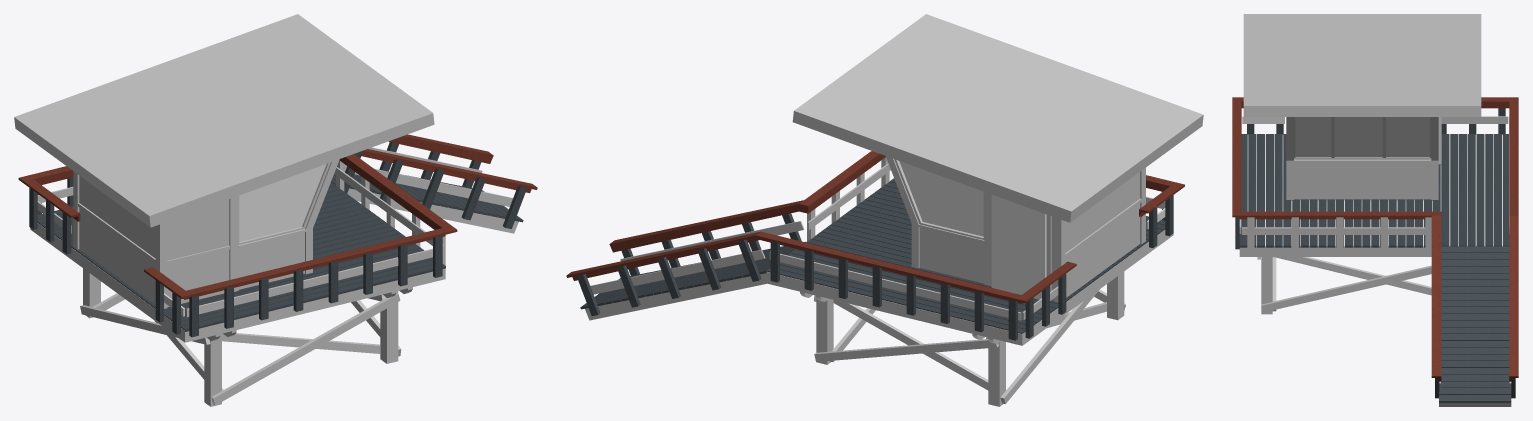
The model's file is LifeGaurd tower.fbx.
3 views of the same model, side by side, from view 1: azimuth 30°, elevation 25°; view 2: azimuth 150°, elevation 25°; view 3: azimuth 270°, elevation 25° (orthographic). The views are drawn at different scales.
Parts seen in each view (by area): view 1: Cube.028, Cube.031, Cube.026, Cube.015, Cube.017, Cube.032, Plane.002, Cube.029, Cube.011, Plane.005, Cube.019, Cube.027 (+14 smaller); view 2: Cube.028, Cube.031, Cube.026, Cube.015, Cube.033, Cube.032, Cube.018, Plane.001, Cube.029, Cube.025, Plane.007, Cube.027 (+16 smaller); view 3: Cube.028, Cube.026, Cube.025, Cube.031, Cube.032, Cube.017, Cube.030, Cube.018, Cube.015, Cube.029, Cube.005, Plane.003 (+8 smaller).
Boxes of the visible parts, left/top/right/bottom form: Cube.028: left=14, top=14, right=434, bottom=227; Cube.031: left=73, top=159, right=339, bottom=308; Cube.026: left=37, top=182, right=445, bottom=331; Cube.015: left=30, top=188, right=518, bottom=342; Cube.017: left=144, top=149, right=537, bottom=298; Cube.032: left=239, top=164, right=326, bottom=241; Plane.002: left=189, top=235, right=442, bottom=337; Cube.029: left=152, top=149, right=532, bottom=299; Cube.011: left=211, top=293, right=400, bottom=405; Plane.005: left=344, top=152, right=526, bottom=228; Cube.019: left=186, top=246, right=443, bottom=317; Cube.027: left=31, top=136, right=493, bottom=221; Cube.028: left=792, top=14, right=1203, bottom=222; Cube.031: left=885, top=156, right=1145, bottom=302; Cube.026: left=767, top=178, right=1165, bottom=333; Cube.015: left=585, top=230, right=1173, bottom=345; Cube.033: left=991, top=194, right=1046, bottom=299; Cube.032: left=899, top=161, right=983, bottom=236; Cube.018: left=566, top=232, right=1076, bottom=303; Plane.001: left=770, top=241, right=1017, bottom=340; Cube.029: left=609, top=153, right=1173, bottom=252; Cube.025: left=580, top=241, right=806, bottom=309; Plane.007: left=576, top=239, right=761, bottom=315; Cube.027: left=571, top=231, right=1068, bottom=303; Cube.028: left=1243, top=14, right=1481, bottom=116; Cube.026: left=1239, top=134, right=1509, bottom=247; Cube.025: left=1439, top=246, right=1511, bottom=402; Cube.031: left=1286, top=117, right=1438, bottom=200; Cube.032: left=1295, top=117, right=1429, bottom=157; Cube.017: left=1232, top=97, right=1438, bottom=377; Cube.030: left=1247, top=134, right=1502, bottom=246; Cube.018: left=1481, top=97, right=1518, bottom=377; Cube.015: left=1239, top=246, right=1511, bottom=406; Cube.029: left=1239, top=100, right=1441, bottom=381; Cube.005: left=1261, top=265, right=1431, bottom=312; Plane.003: left=1247, top=217, right=1431, bottom=253.
Bounding box in the file's own units: 1174 × 565 × 670.
